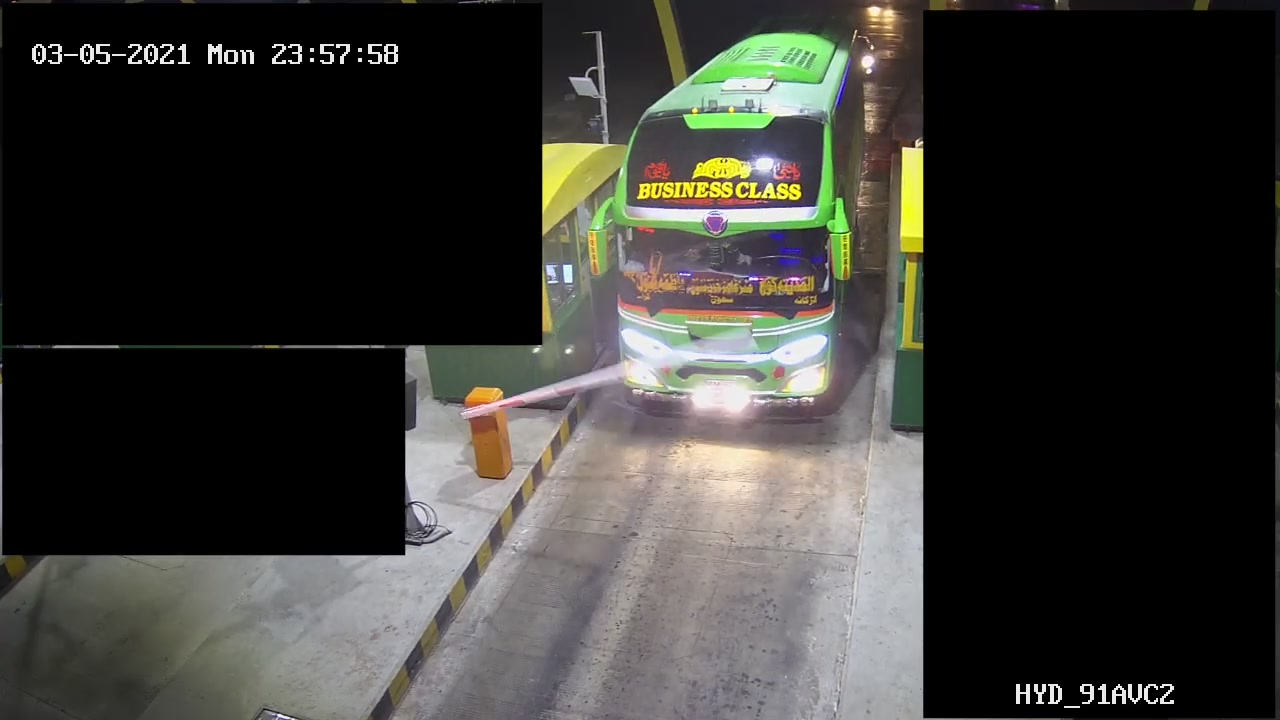F4: (608, 28, 858, 433)
